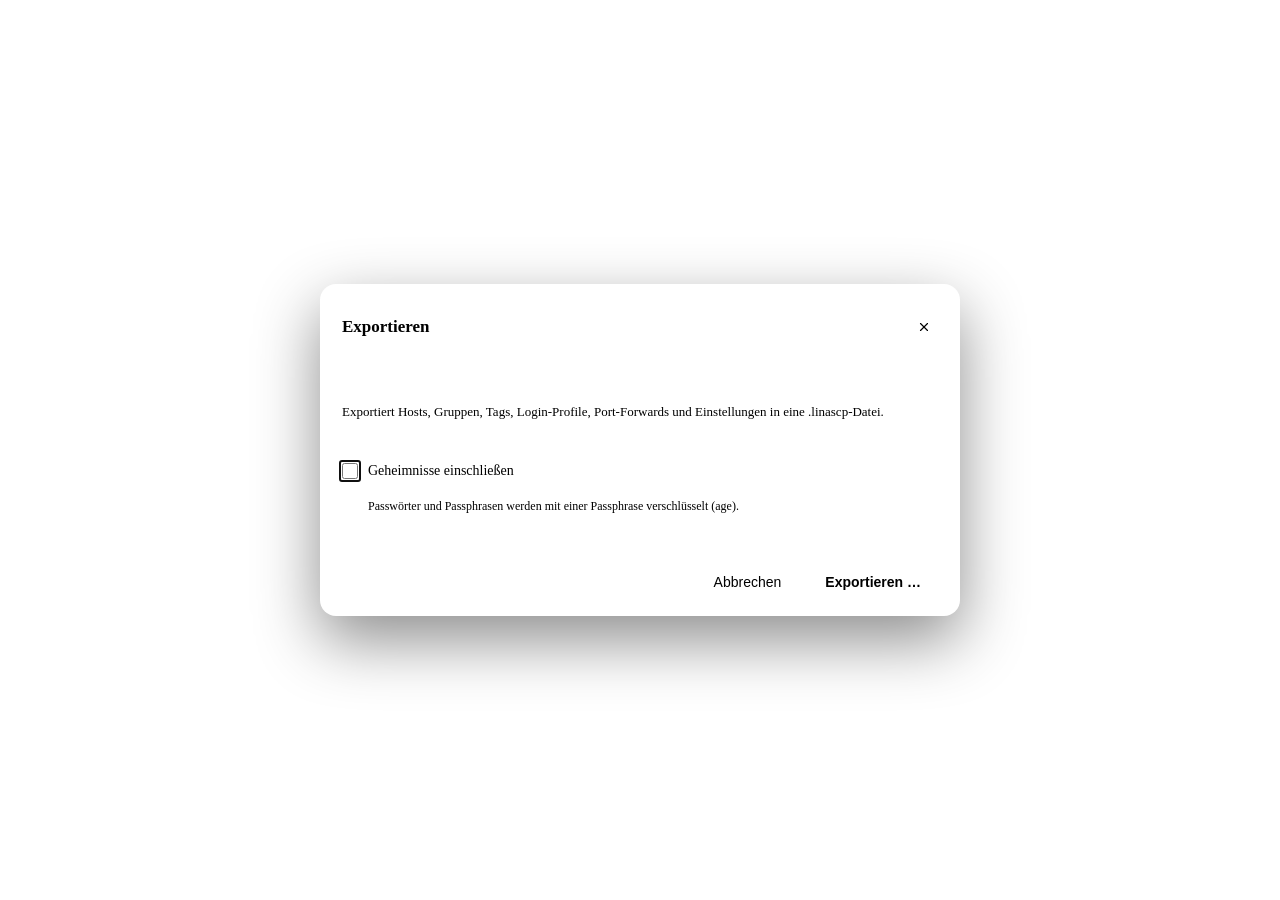
Test: ExportDialog › exports without secrets
Expected: the dialog "Exportieren" is shown, [320,284,960,616]
Click the button "Exportieren …": (873, 582) [808,562,938,602]
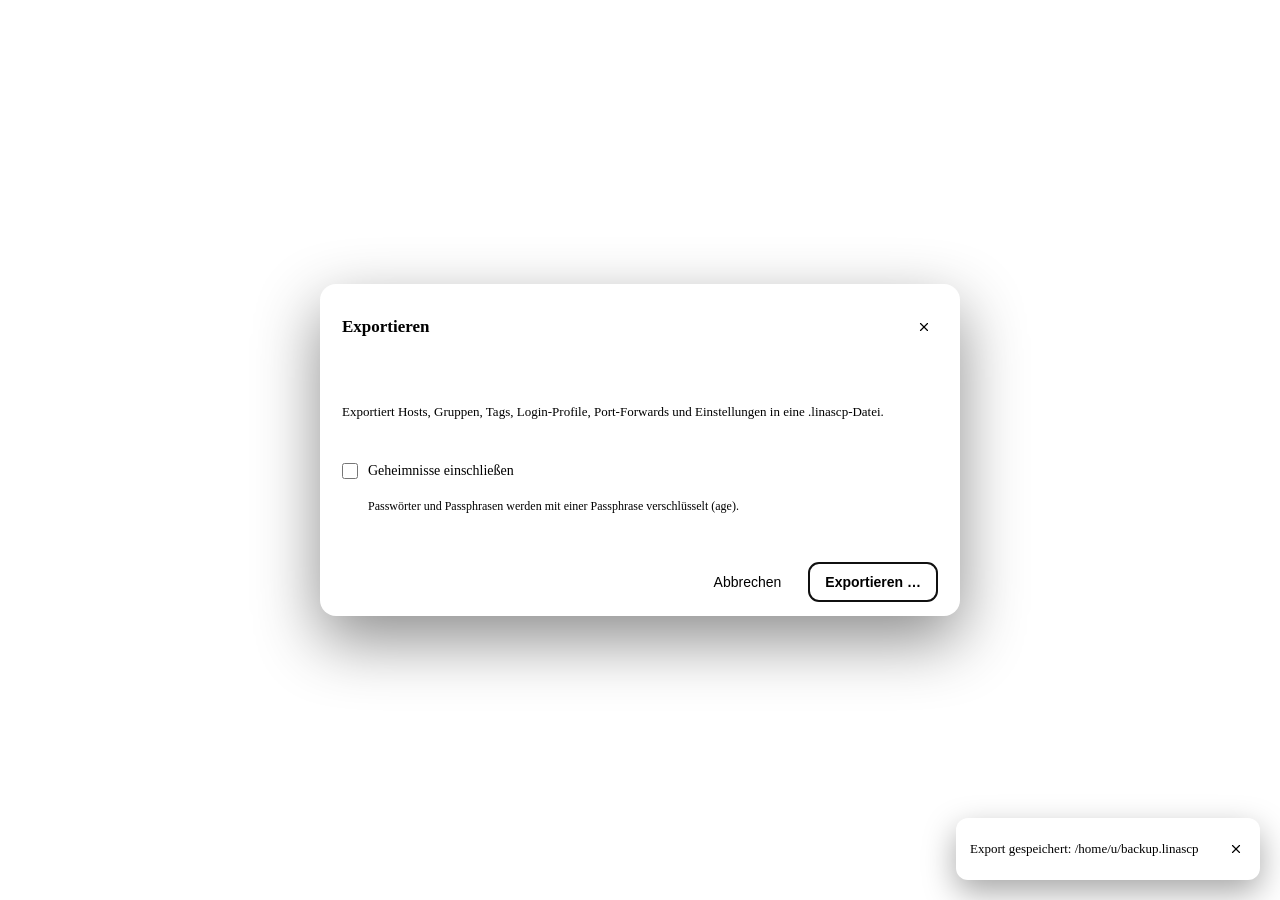
Result: the text "Export gespeichert: /home/u/backup.linascp" is shown at [970,841,1214,857]
